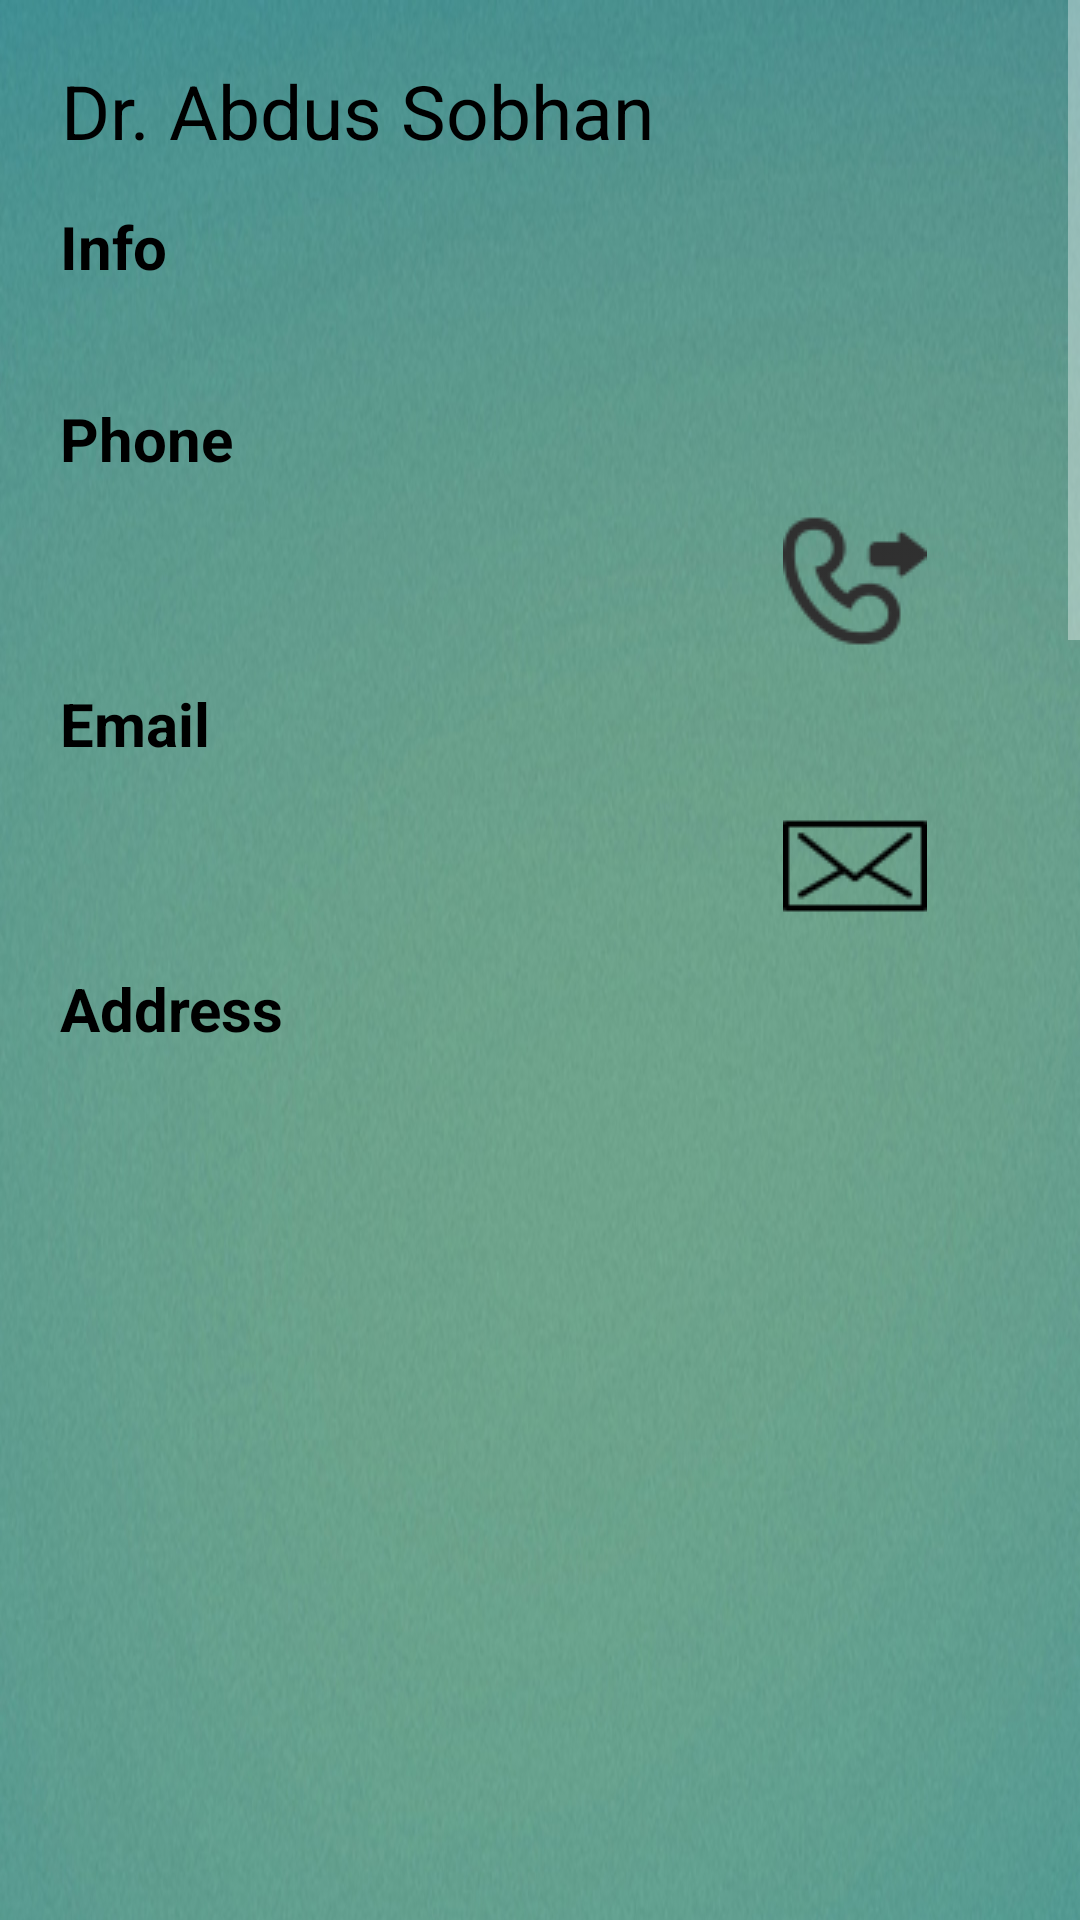

Where icons sit on this 1080 × 1920 app screen, as (x1, y1, x2, y2):
call outgoing: (783, 517, 927, 645)
email: (783, 820, 927, 912)
